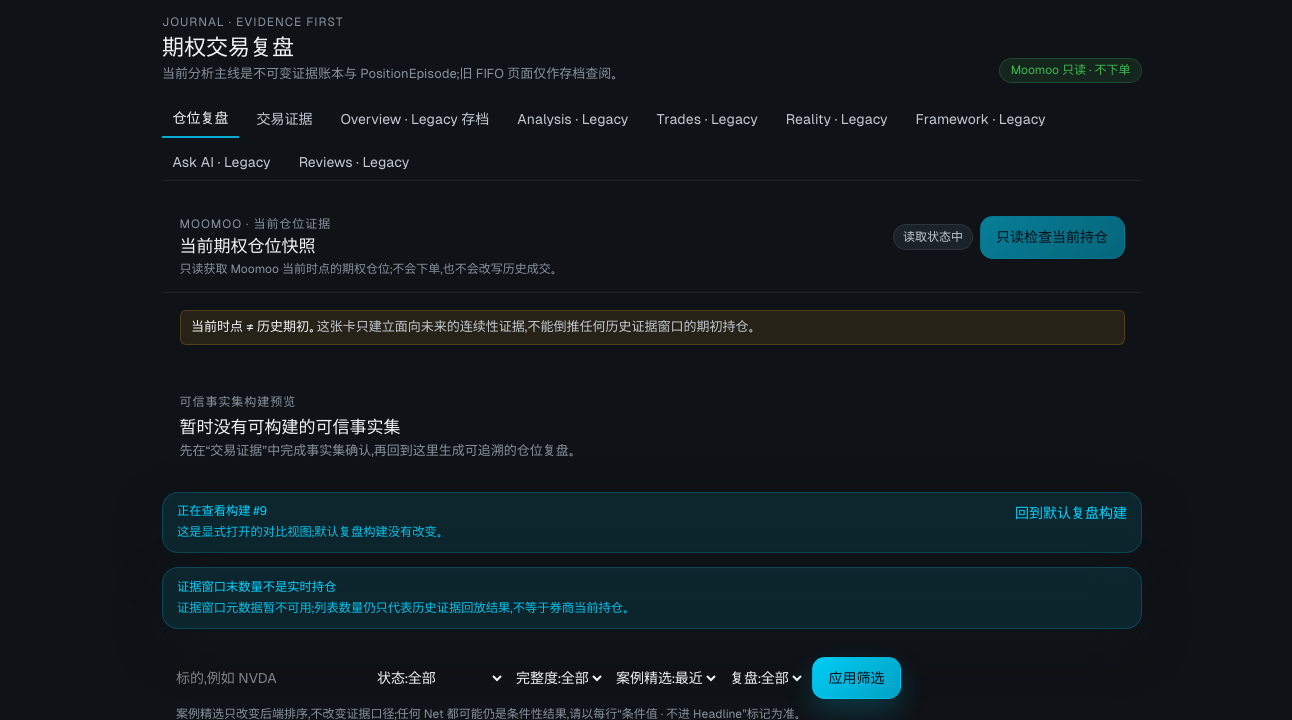
Test: JournalPage active journal routing and legacy isolation › keeps an explicit comparison build in the URL until returning to the default build
Expected: the text "正在查看构建 #9" is shown, [177, 504, 267, 518]
What coordinates should you click on to do the following:
click the button "回到默认复盘构建"
I would click on:
 (1071, 514)
Its box is [1015, 503, 1127, 524].
(page scrolled)
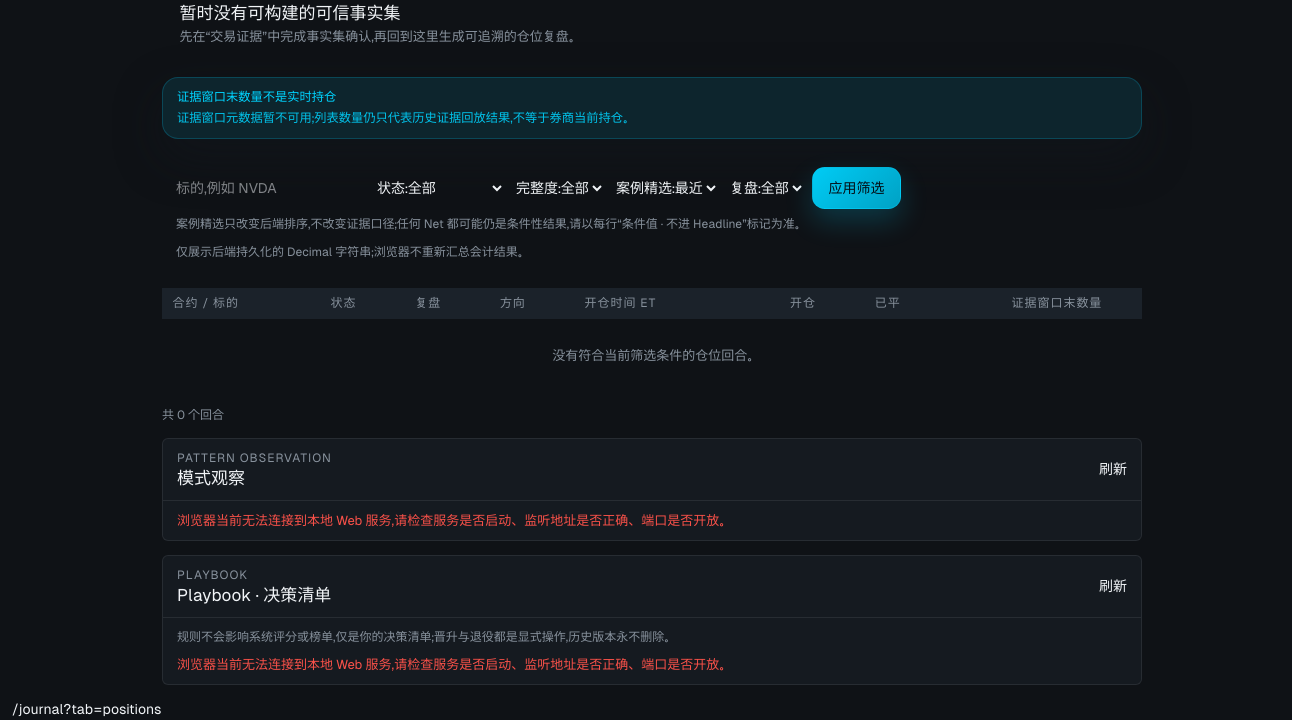
Now the text with test id "location" reads "/journal?tab=positions", box [12, 702, 162, 718]
